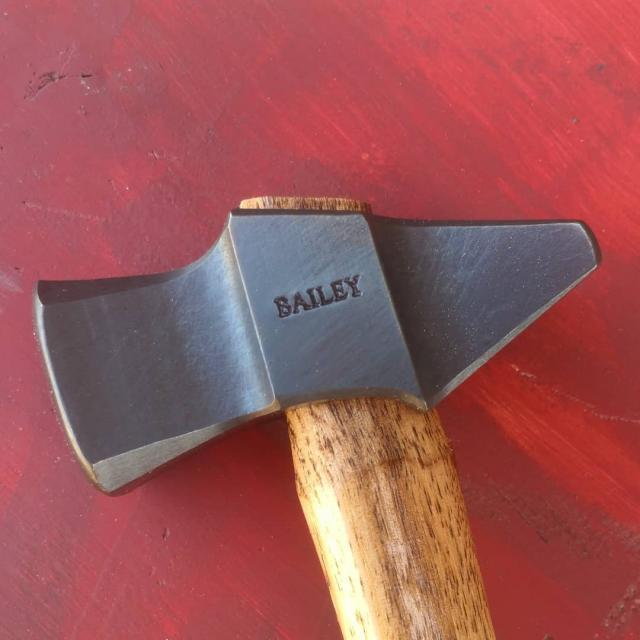hammer: (21, 180, 613, 640)
